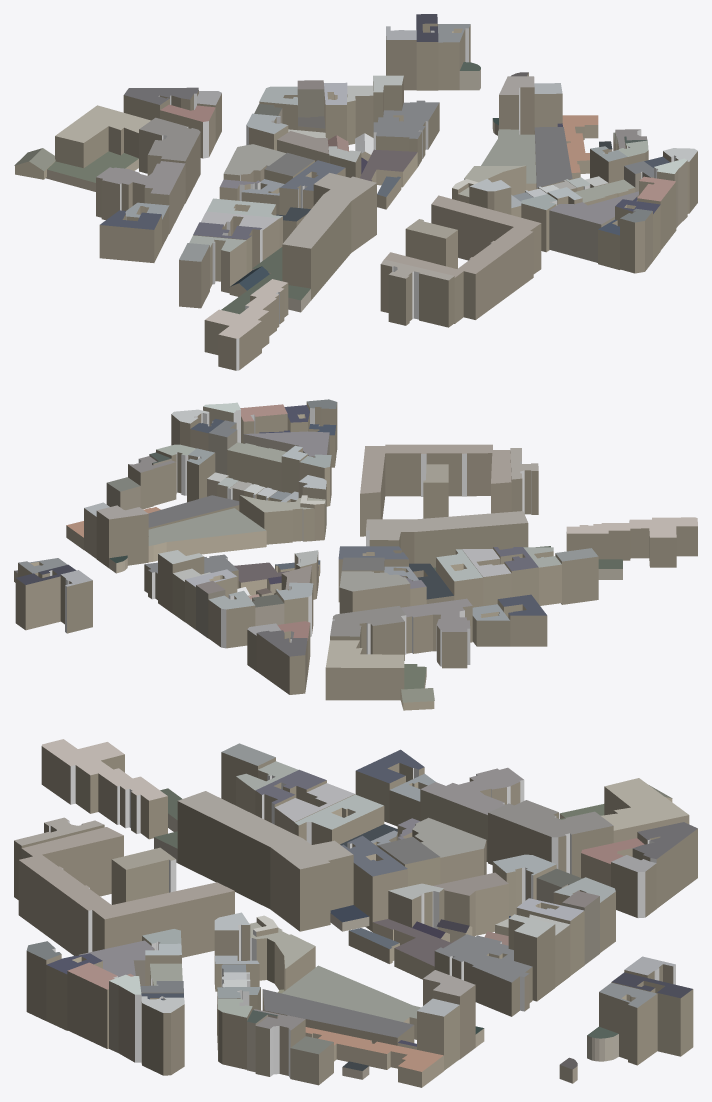
3 renders of one model, top to bottom at view 1: azimuth 30°, elevation 25°; view 2: azimuth 150°, elevation 25°; view 3: azimuth 270°, elevation 25°, orthographic. The views are drawn at different scales.
Parts seen in each view (by area): view 1: tuile; view 2: tuile; view 3: tuile.
Boxes of the visible parts, bbox=[...] form: tuile: bbox=[14, 14, 697, 370]; tuile: bbox=[14, 399, 697, 710]; tuile: bbox=[14, 739, 697, 1087].
Bounding box in the file's own units: 282 × 34.31 × 262.
